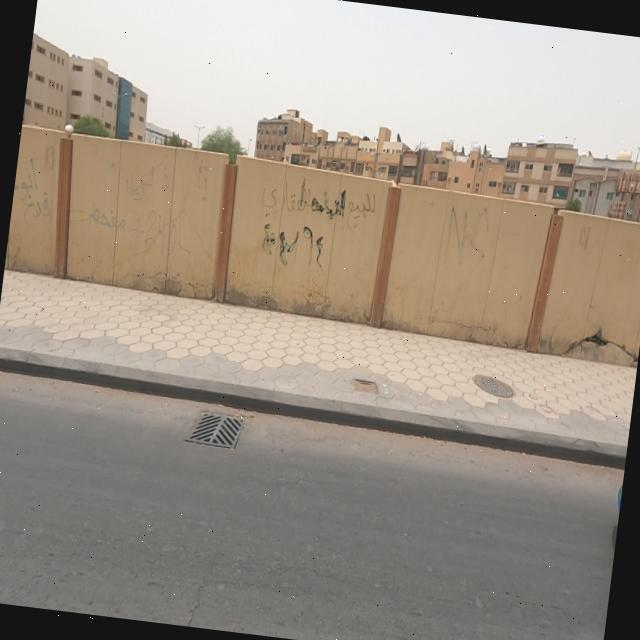Graffiti: (261, 177, 379, 234), (444, 202, 493, 290), (11, 156, 62, 229), (260, 222, 329, 272), (120, 151, 175, 206), (68, 204, 129, 238), (146, 208, 183, 258), (578, 225, 593, 251)
